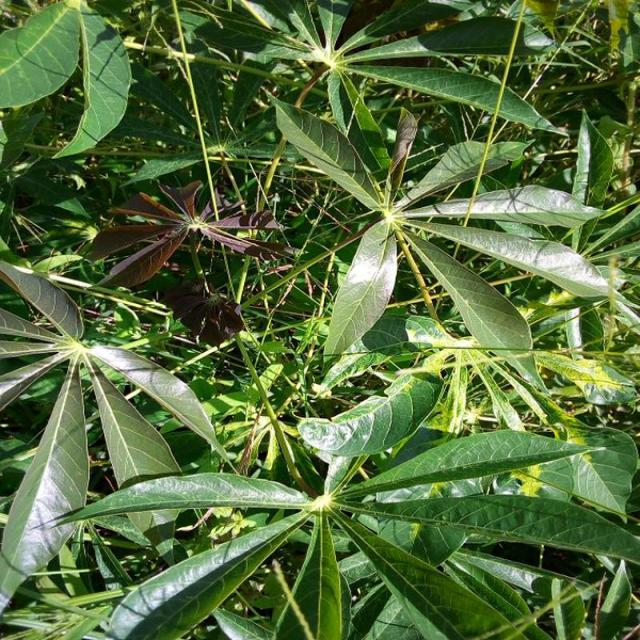cassava leaf: (0, 0, 638, 638), (322, 216, 398, 360)
